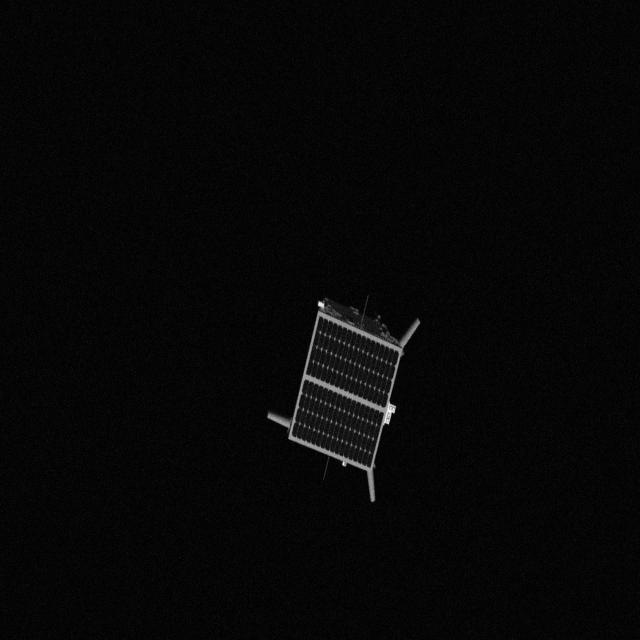satellite: (264, 280, 432, 504)
